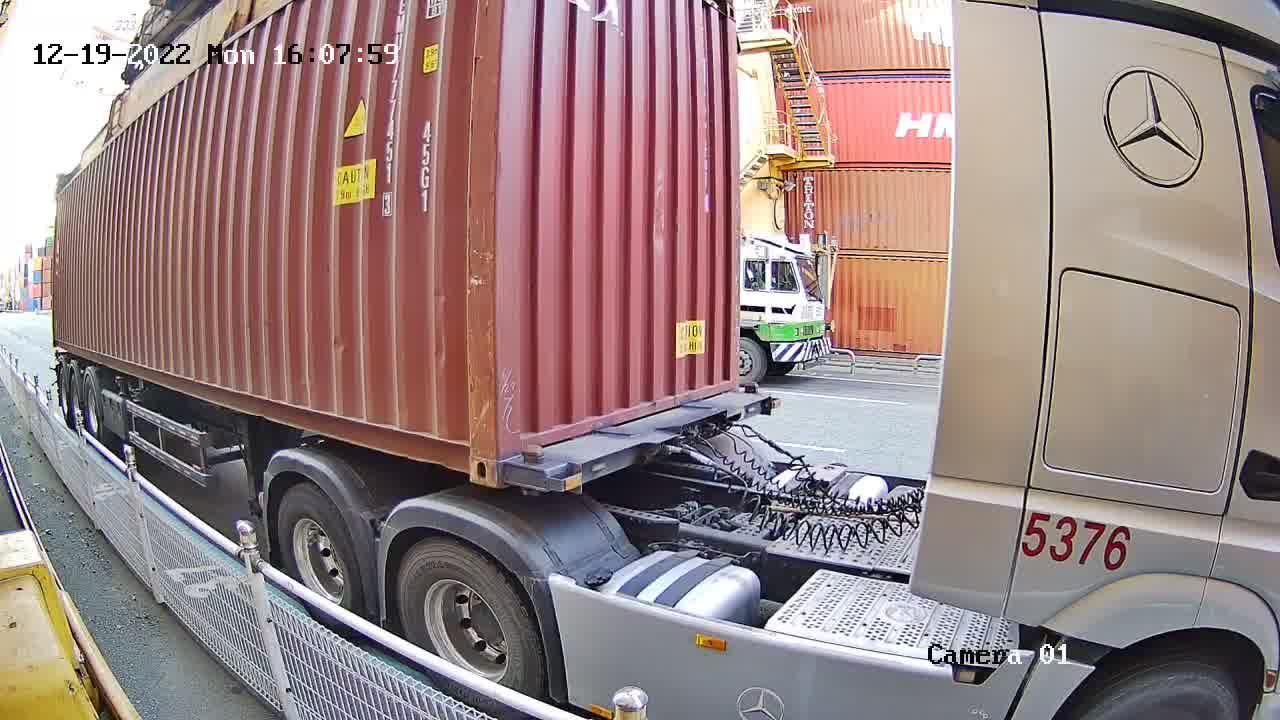Chassis: (500, 390, 777, 493)
Cone: (518, 445, 549, 497), (740, 380, 761, 397)
Hole_R: (428, 401, 497, 484)
Tire: (399, 540, 543, 695), (278, 485, 362, 611)
